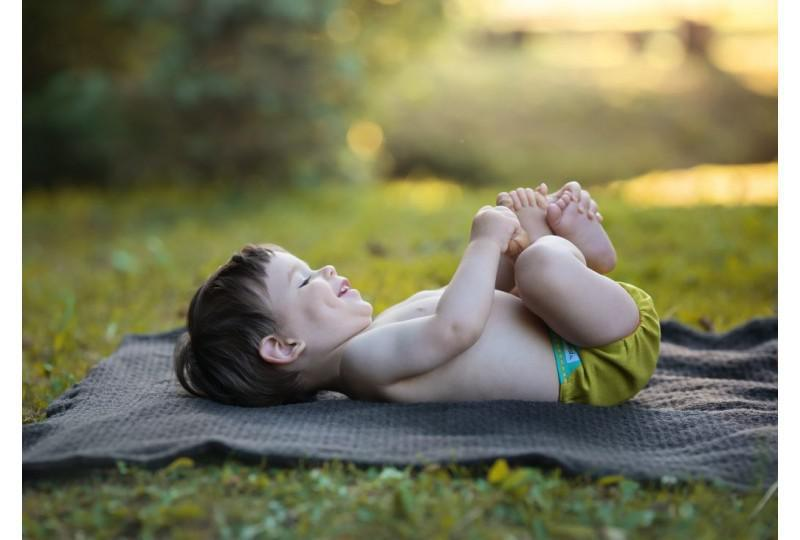child: (178, 155, 669, 429)
